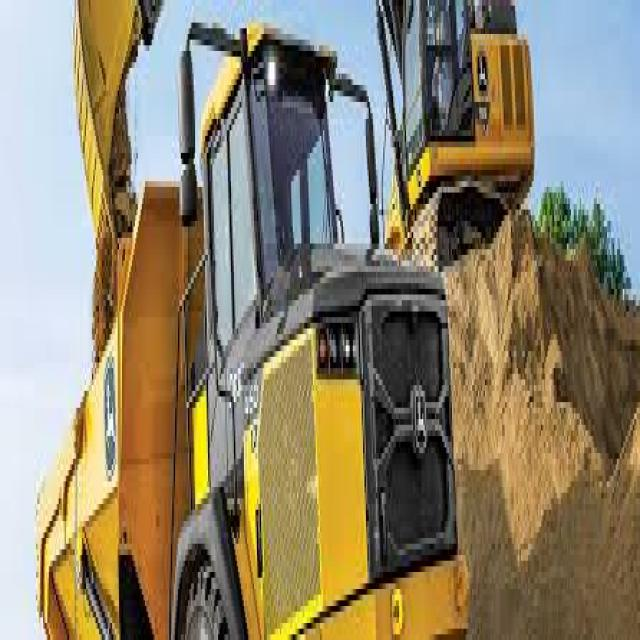dump_truck: (29, 2, 473, 640)
